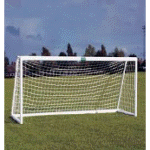goals: (10, 54, 139, 122)
